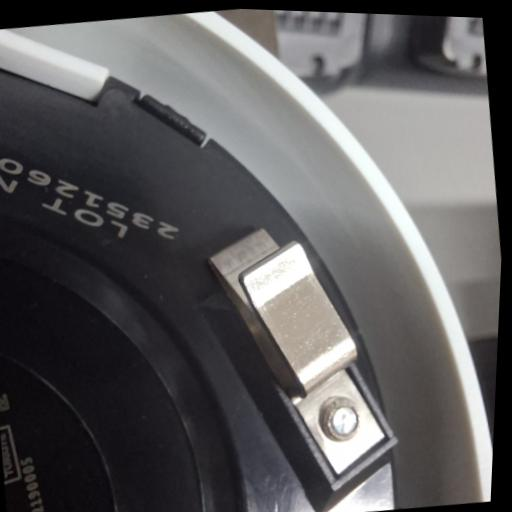yayli: (204, 212, 410, 510)
